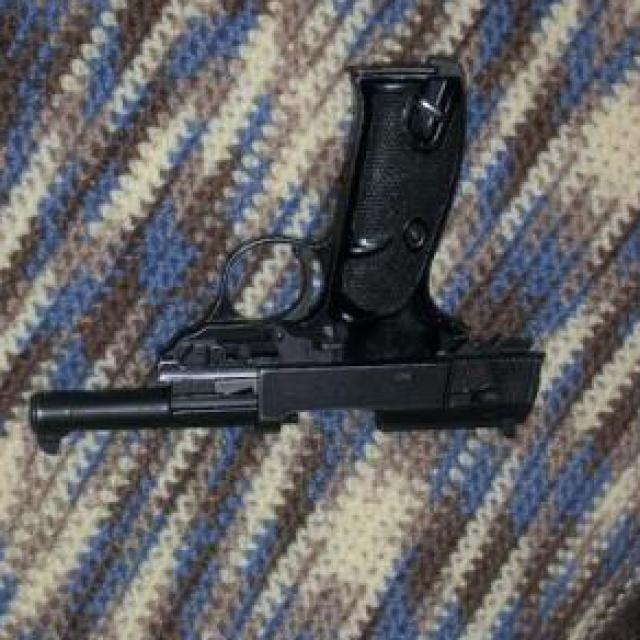pistol: (29, 57, 549, 458)
